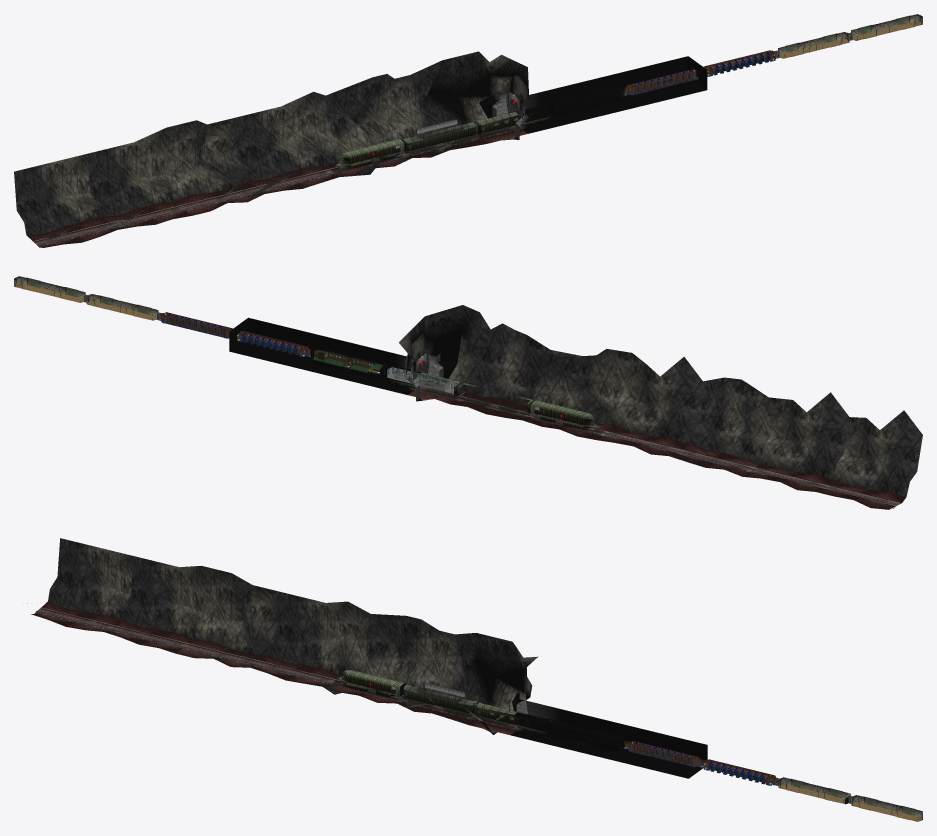
The model's file is Train.glb.
The picture shows the model from 3 angles, top to bottom: view 1: azimuth 30°, elevation 25°; view 2: azimuth 150°, elevation 25°; view 3: azimuth 330°, elevation 25°; orthographic projection.
Visible parts, largest first — view 1: Train_50, Train_49, Train_2, Train_51, Train_Alpha_56, Train_12, Train_52, Train_3, Train_4, Train_1; view 2: Train_50, Train_49, Train_51, Train_Alpha_56, Train_2, Train_12, Train_52, Train_3, Train_4, Train_1; view 3: Train_50, Train_49, Train_2, Train_Alpha_56, Train_51, Train_12, Train_52, Train_3, Train_4, Train_1.
Part boxes in pixels (<box>): Train_50: <box>14,51,529,240</box>; Train_49: <box>26,80,706,247</box>; Train_2: <box>335,16,922,168</box>; Train_51: <box>492,56,707,139</box>; Train_Alpha_56: <box>33,100,626,246</box>; Train_12: <box>578,50,775,104</box>; Train_52: <box>33,101,625,244</box>; Train_3: <box>779,15,922,58</box>; Train_4: <box>778,14,922,56</box>; Train_1: <box>778,14,922,54</box>; Train_50: <box>399,305,922,499</box>; Train_49: <box>230,341,906,509</box>; Train_51: <box>229,317,443,401</box>; Train_Alpha_56: <box>308,360,900,508</box>; Train_2: <box>14,278,599,430</box>; Train_12: <box>161,312,380,372</box>; Train_52: <box>310,360,899,505</box>; Train_3: <box>14,283,156,320</box>; Train_4: <box>14,276,157,319</box>; Train_1: <box>14,276,158,316</box>; Train_50: <box>27,538,537,734</box>; Train_49: <box>31,601,702,778</box>; Train_2: <box>337,670,850,804</box>; Train_Alpha_56: <box>35,607,627,755</box>; Train_51: <box>494,692,707,760</box>; Train_12: <box>589,737,776,784</box>; Train_52: <box>37,607,626,754</box>; Train_3: <box>778,778,922,821</box>; Train_4: <box>778,778,921,817</box>; Train_1: <box>778,777,922,817</box>.
Size of the model in its own units: 677 by 55.88 by 66.75.
Materials: 70 (69 with a texture image).
